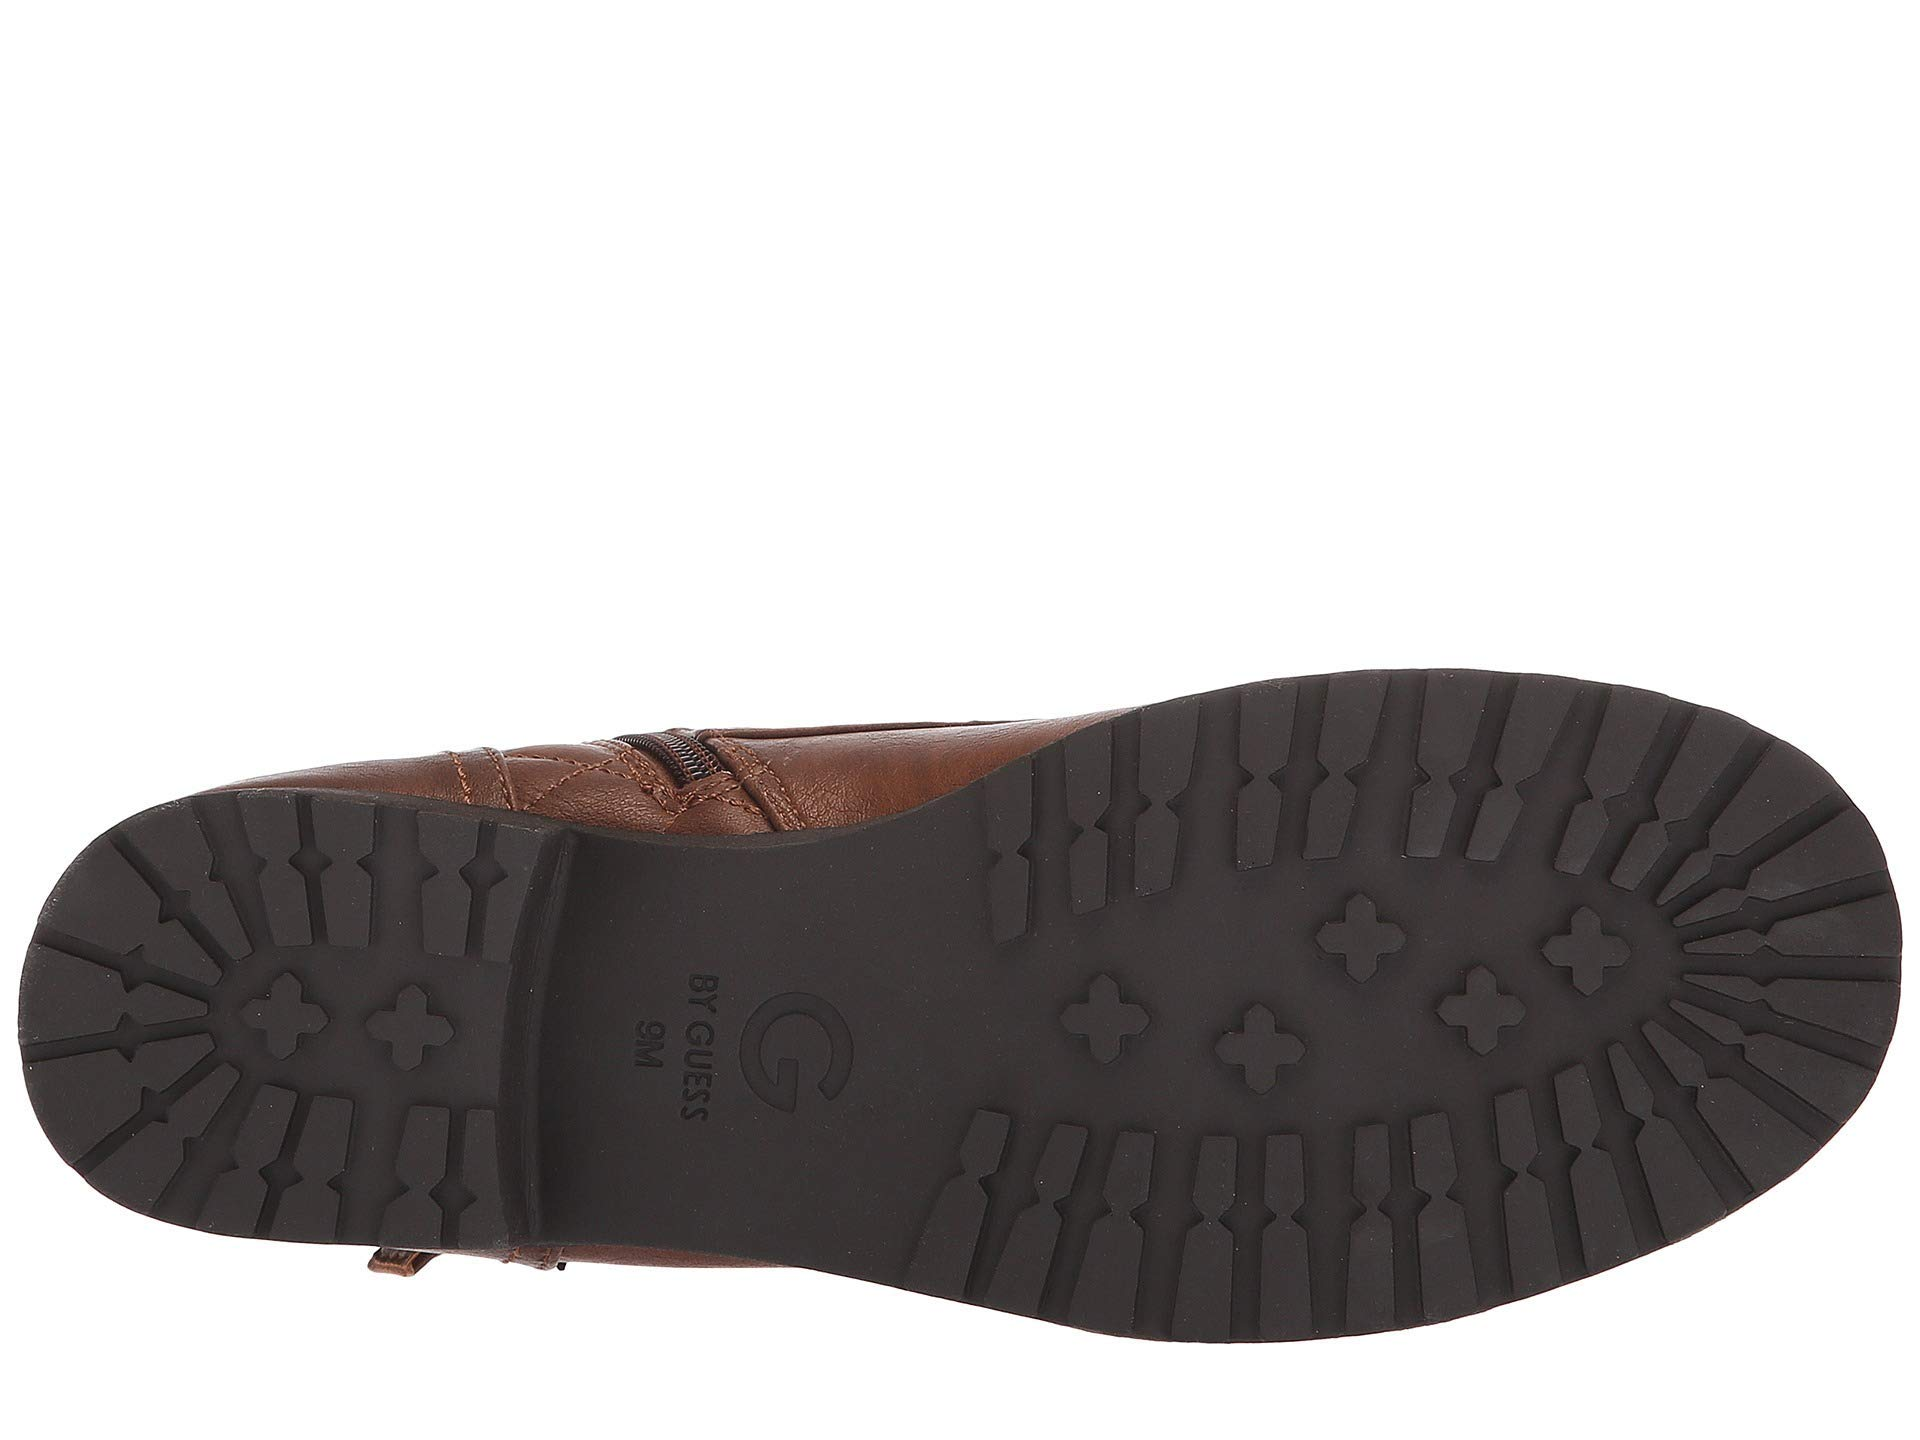other: (1058, 718, 1209, 929)
star: (1285, 859, 1661, 1060)
text: (602, 918, 886, 1153)
